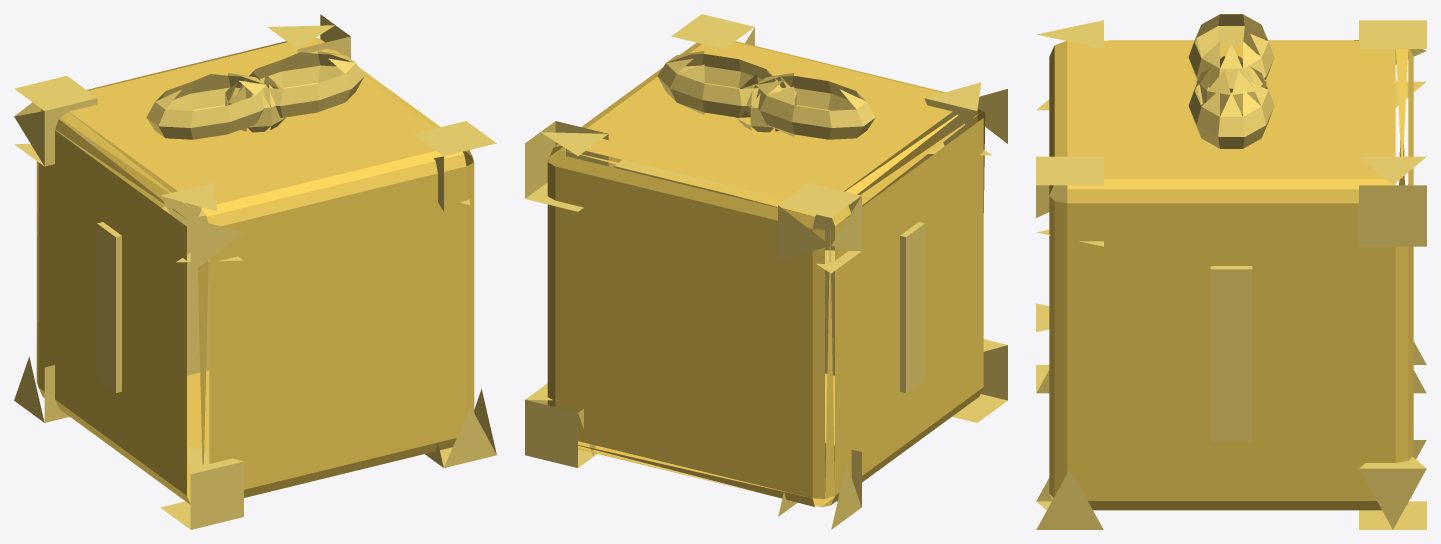
File: itembox.glb
3 renders of one model, left to right at view 1: azimuth 30°, elevation 25°; view 2: azimuth 150°, elevation 25°; view 3: azimuth 270°, elevation 25°, orthographic. The views are drawn at different scales.
Parts seen in each view (by area): view 1: boxbody, CornerCaps, bowloop-0.22, bowloop0.22, Cube.001, Cube, bowknot; view 2: boxbody, CornerCaps, bowloop-0.22, Cube, bowloop0.22, bowknot, Cube.001; view 3: boxbody, CornerCaps, Cube, bowloop-0.22, bowloop0.22, Cube.001, bowknot.
Boxes of the visible parts, x1,y1,x2,y2 form: boxbody: (36,38,474,504); CornerCaps: (14,14,496,529); bowloop-0.22: (146,73,267,139); bowloop0.22: (238,51,364,117); Cube.001: (97,207,209,392); Cube: (97,207,209,389); bowknot: (225,73,285,132); boxbody: (547,41,985,507); CornerCaps: (525,14,1007,529); bowloop-0.22: (754,73,875,139); Cube: (615,160,924,392); bowloop0.22: (657,51,782,117); bowknot: (736,73,796,132); Cube.001: (614,160,923,366); boxbody: (1049,40,1413,510); CornerCaps: (1036,20,1426,529); Cube: (1210,266,1252,441); bowloop-0.22: (1188,14,1274,92); bowloop0.22: (1188,62,1274,148); Cube.001: (1210,266,1251,441); bowknot: (1196,56,1266,116).
Bounding box in the file's own units: 1.5 × 1.67 × 1.5.
